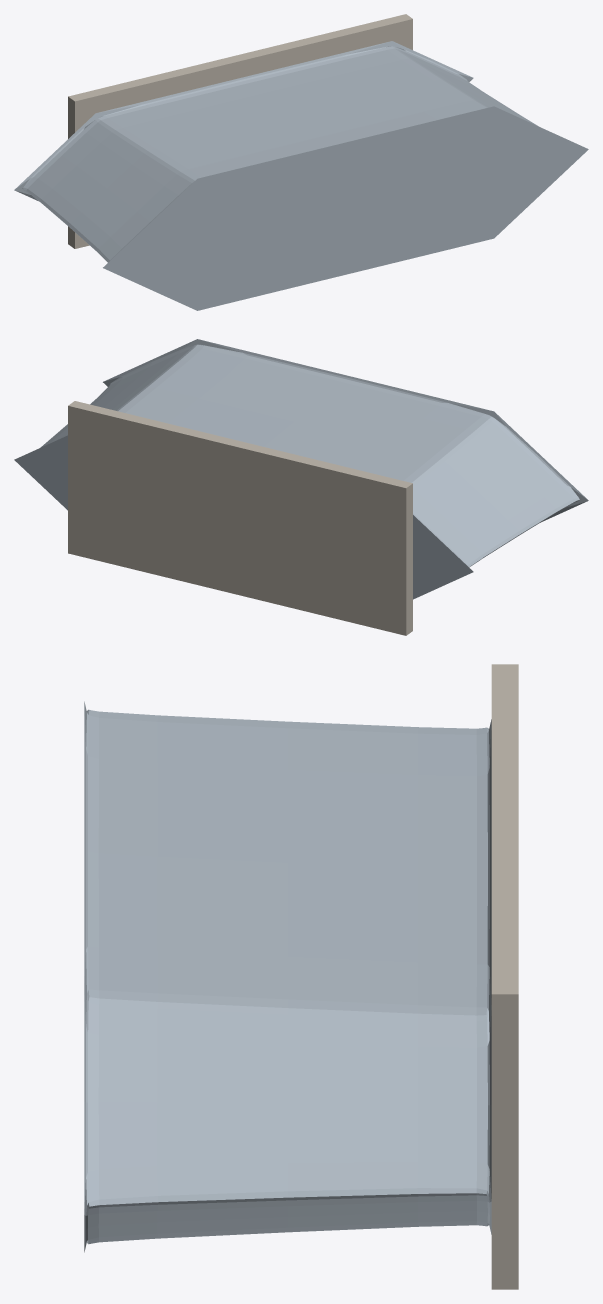
The model's file is BoatPier.fbx.
The picture shows the model from 3 angles, top to bottom: view 1: azimuth 30°, elevation 25°; view 2: azimuth 150°, elevation 25°; view 3: azimuth 270°, elevation 25°; orthographic projection. The views are drawn at different scales.
Parts seen in each view (by area): view 1: BoatPier, PierCap; view 2: PierCap, BoatPier; view 3: BoatPier, PierCap.
Boxes of the visible parts, bbox=[...] form: BoatPier: bbox=[14, 41, 588, 310]; PierCap: bbox=[68, 14, 412, 248]; PierCap: bbox=[68, 401, 412, 635]; BoatPier: bbox=[14, 339, 588, 599]; BoatPier: bbox=[84, 701, 491, 1252]; PierCap: bbox=[491, 664, 518, 1289].
Bounding box in the file's own units: 16.54 × 4.8 × 6.4.
